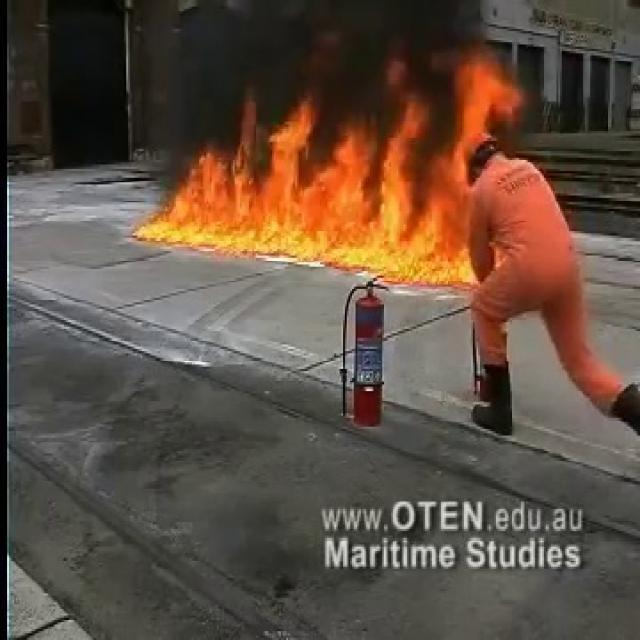Fire: (135, 61, 544, 283)
Smoke: (33, 0, 513, 138)
